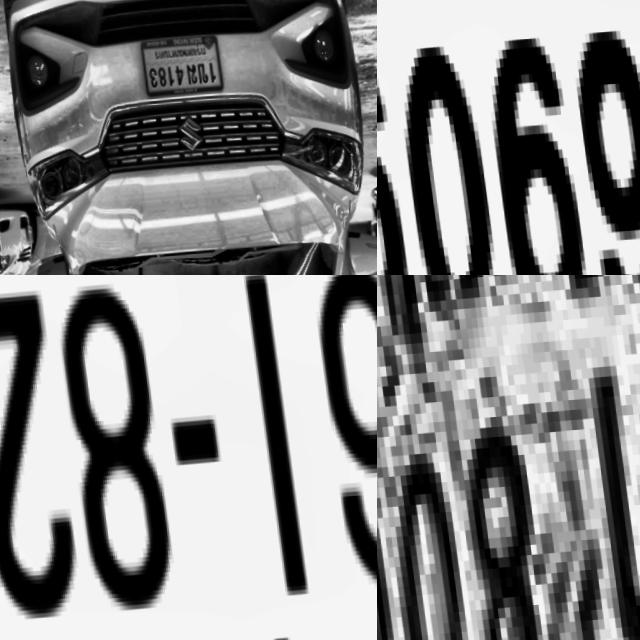license-plate: (0, 275, 377, 640), (377, 275, 640, 640), (377, 0, 640, 275), (136, 35, 222, 105), (17, 225, 31, 243)
